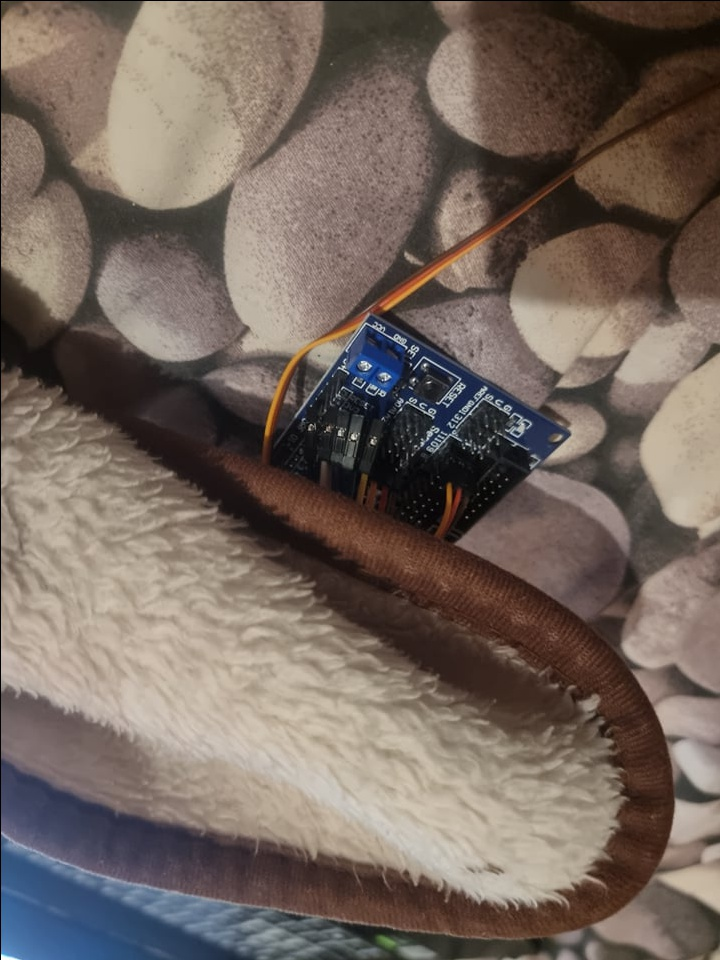5V EXPANSION: (267, 309, 569, 555)
